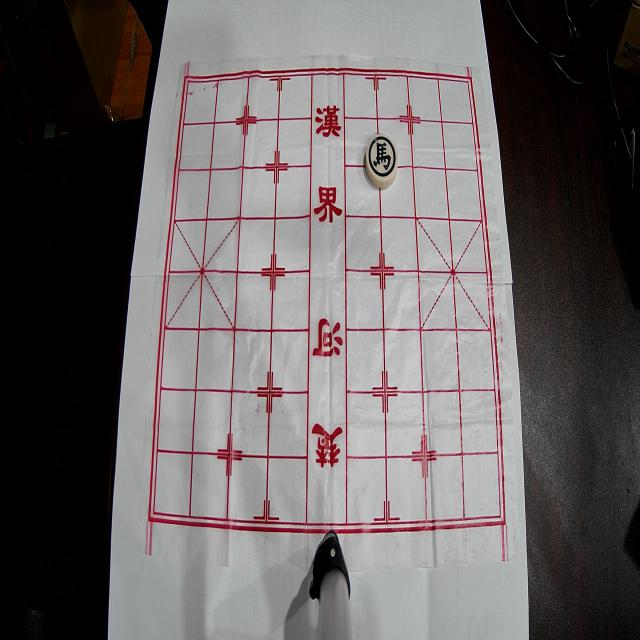black-horse: (366, 134, 398, 188)
